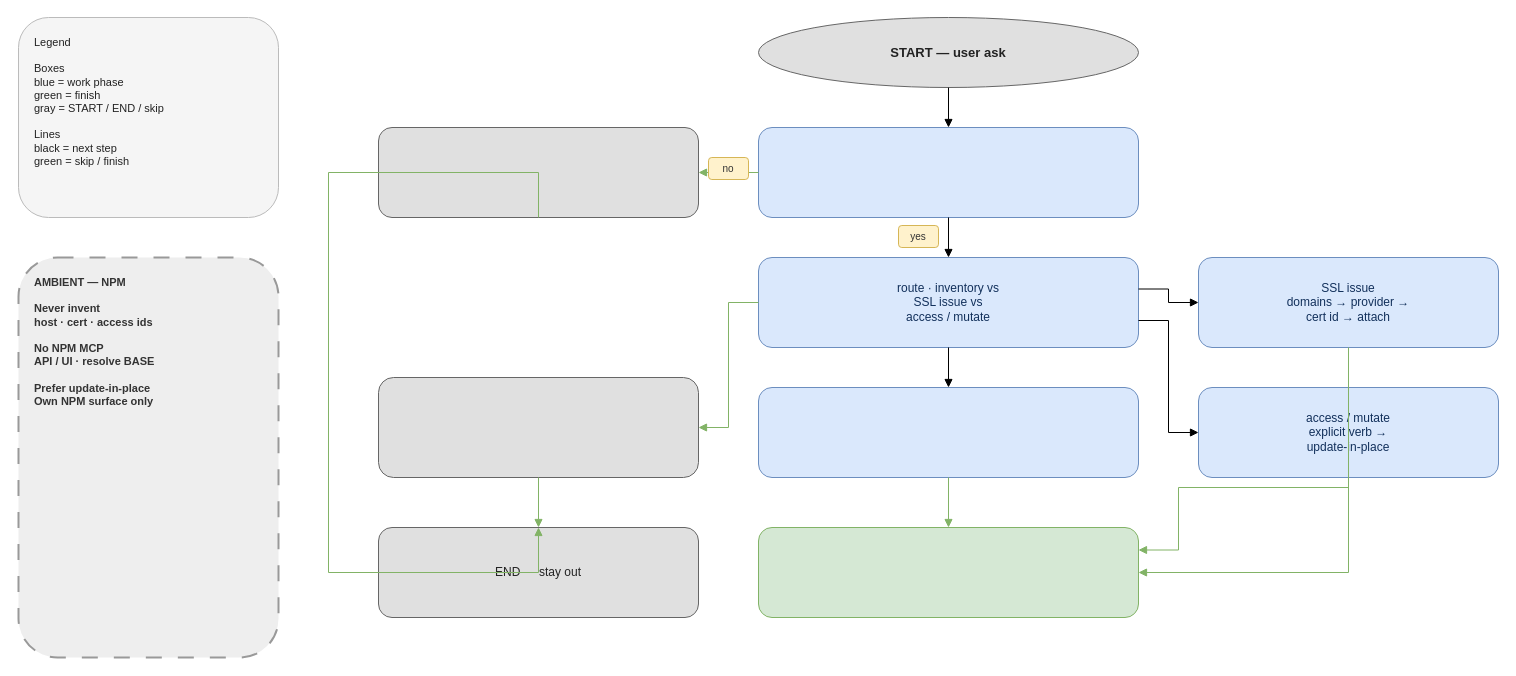
Image size: 1516x676. Some labels were removed from this diagram. The shapes that lost their labels are listed below. From the top down, each one's centre as x and y in pixels, then its label:
point 538,172: skip — no NPM surface this turn
point 948,172: gate · NPM? proxy host / SSL / access list ask
point 538,427: refuse / gate mutate no verb · secrets (nginx-proxy-manager-safety)
point 948,432: inventory list → domain + forward + ssl
point 948,572: END — id + domains + forward / cert receipt
